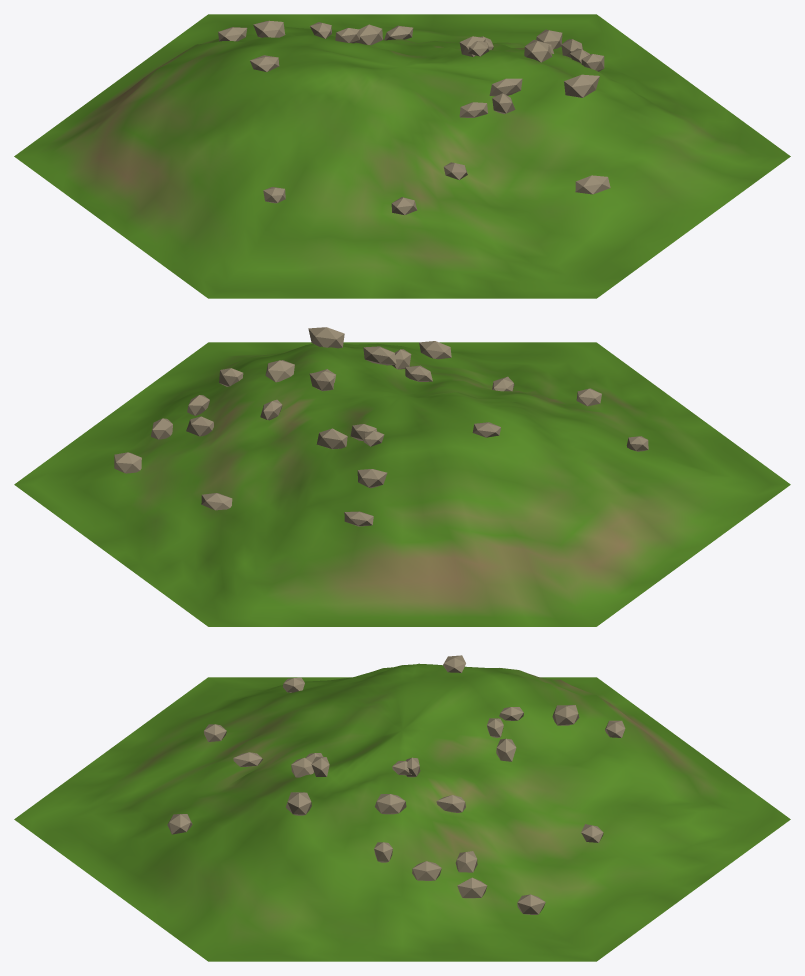
Rendered from SM_Terreno_Colina_Revision.fbx.
3 renders of one model, top to bottom at view 1: azimuth 30°, elevation 25°; view 2: azimuth 150°, elevation 25°; view 3: azimuth 270°, elevation 25°, orthographic.
Visible parts, largest first — view 1: SM_Terreno_Colina_Revision; view 2: SM_Terreno_Colina_Revision; view 3: SM_Terreno_Colina_Revision.
Boxes of the visible parts, x1,y1,x2,y2 form: SM_Terreno_Colina_Revision: (14, 14, 790, 298); SM_Terreno_Colina_Revision: (14, 327, 790, 626); SM_Terreno_Colina_Revision: (14, 655, 790, 961).
Bounding box in the file's own units: 173 × 30.52 × 200.
